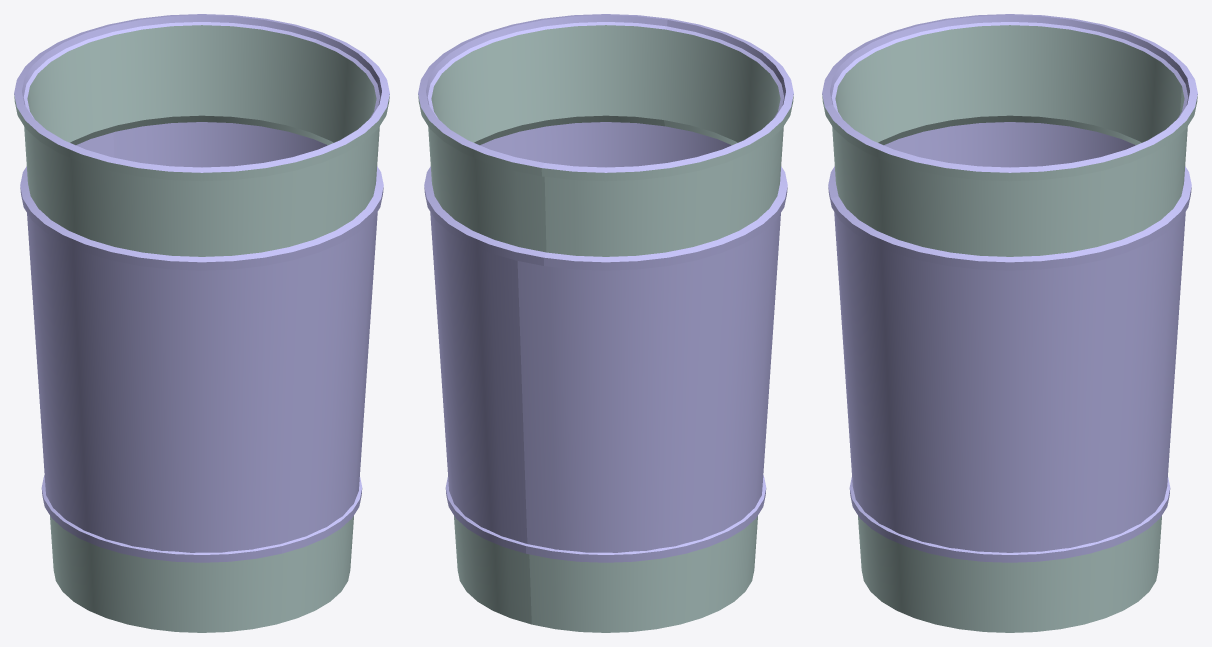
3 views of the same model, side by side, from view 1: azimuth 30°, elevation 25°; view 2: azimuth 150°, elevation 25°; view 3: azimuth 270°, elevation 25° (orthographic).
Parts seen in each view (by area): view 1: cup_for_pen; view 2: cup_for_pen; view 3: cup_for_pen.
Part boxes in pixels (x1,y1,x2,y2): cup_for_pen: (14,14,389,632); cup_for_pen: (418,14,793,632); cup_for_pen: (822,14,1197,632).
Bounding box in the file's own units: 686 × 964 × 686.
